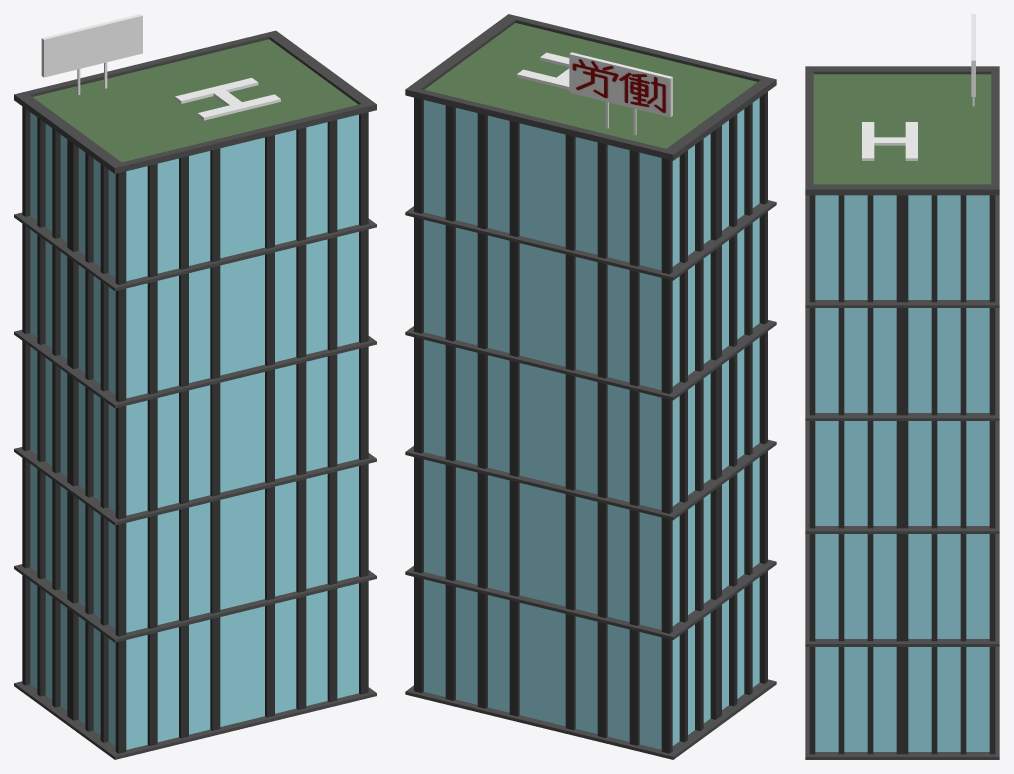
File: build3.fbx
3 views of the same model, side by side, from view 1: azimuth 30°, elevation 25°; view 2: azimuth 150°, elevation 25°; view 3: azimuth 270°, elevation 25° (orthographic). The views are drawn at different scales.
Parts seen in each view (by area): view 1: build3, sign; view 2: build3, sign; view 3: build3, sign.
Part boxes in pixels (x1,y1,x2,y2): build3: (14, 30, 376, 759); sign: (41, 14, 142, 95); build3: (405, 14, 776, 759); sign: (569, 52, 672, 135); build3: (805, 66, 999, 759); sign: (971, 14, 975, 106).
Size of the model in its own units: 437 by 656 by 1562.
